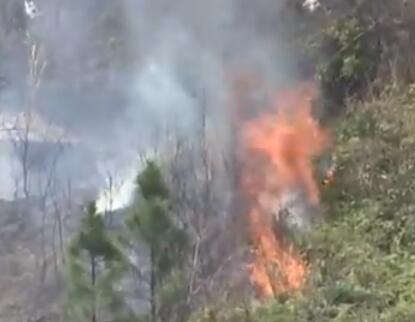fire: (223, 78, 333, 299)
smoke: (2, 1, 299, 316)
